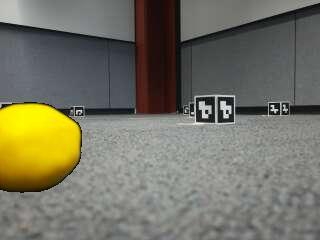lemon: (2, 103, 82, 192)
